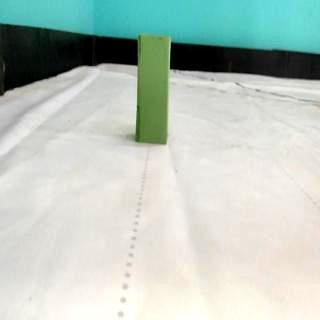greenbox: (136, 34, 172, 146)
